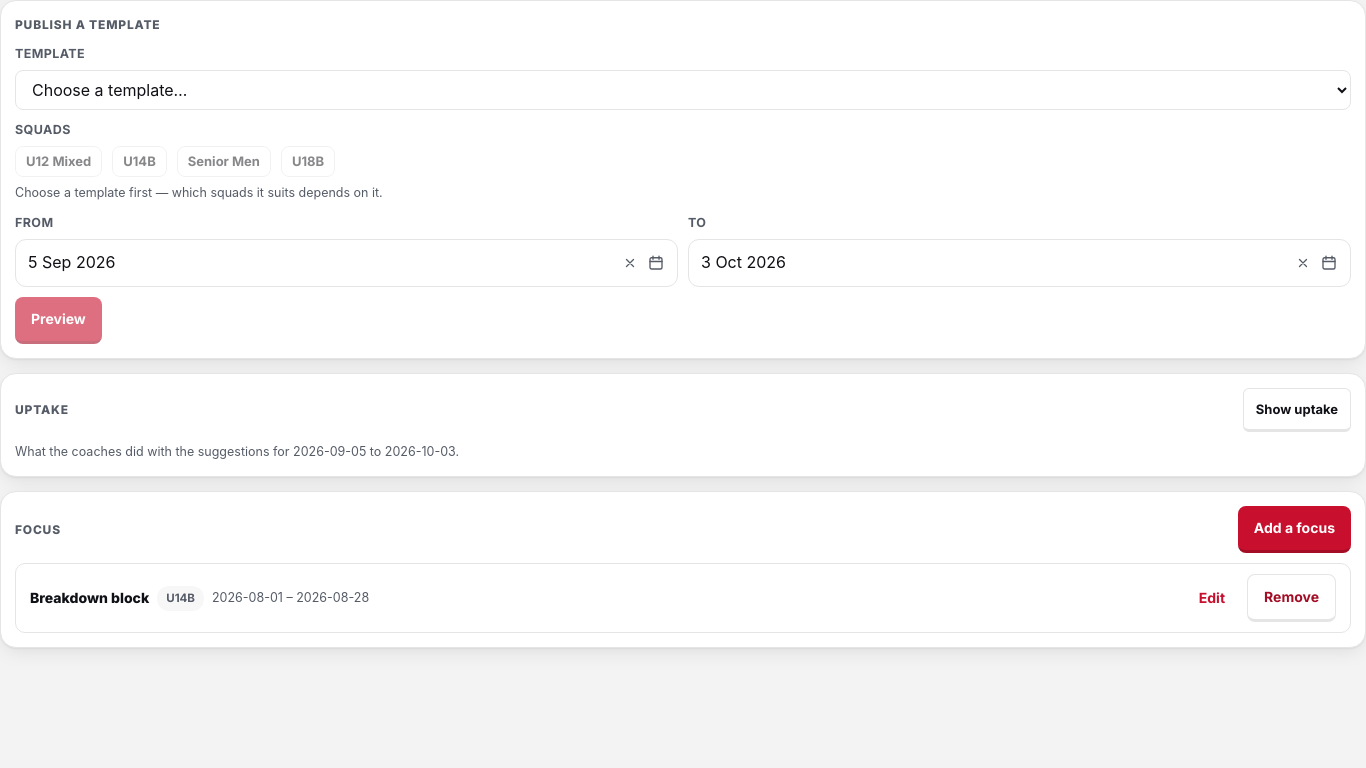
Test: TrainingPublish › counts the ticked out-of-band squads in one sentence, and stays a note not a gate
The image size is (1366, 768).
Step 1. Select "Contact hour · 60 min" in the dropdown labelled "Template" → {"x": 683, "y": 90}, box x1=15 y1=70 x2=1351 y2=110
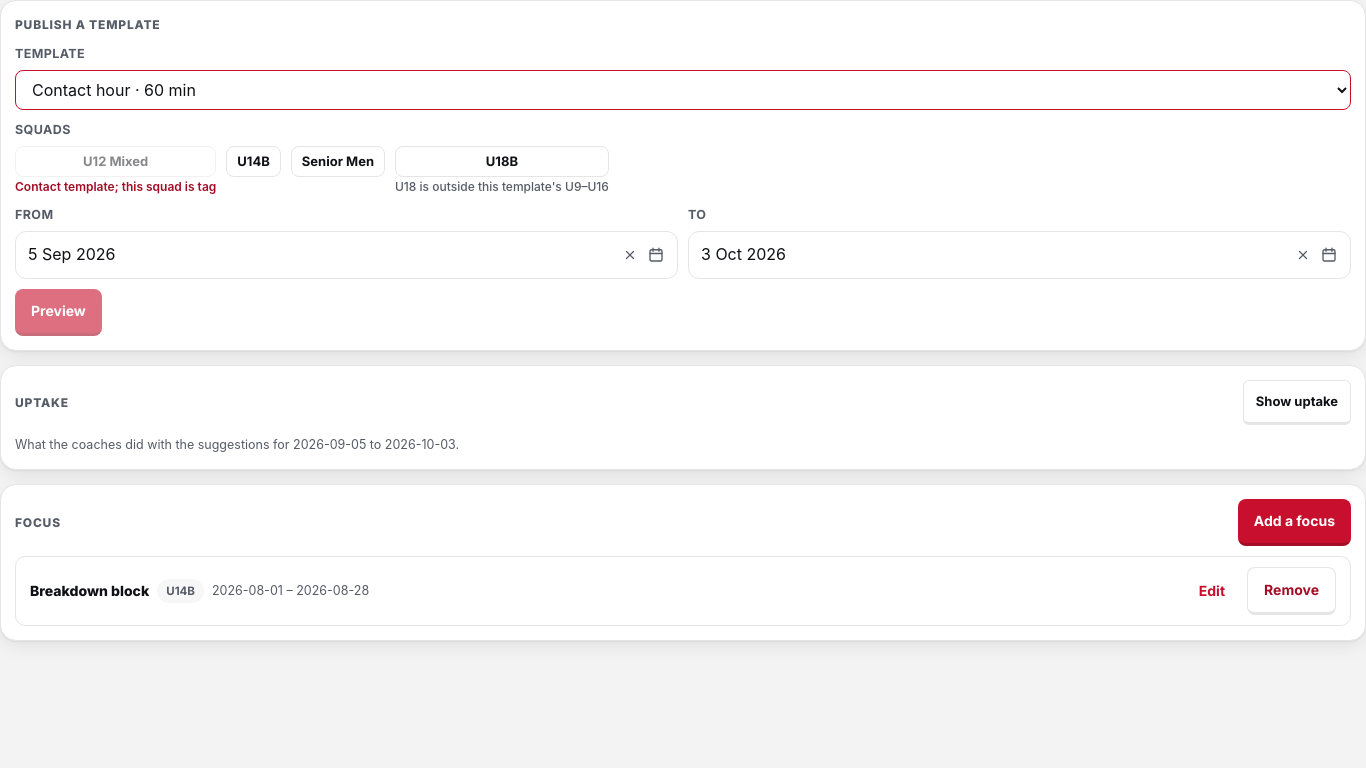
Expected: the text "outside this template's band" is not shown
Step 2. Click the checkbox labelled "U18B" → {"x": 502, "y": 162}, box x1=395 y1=146 x2=609 y2=177
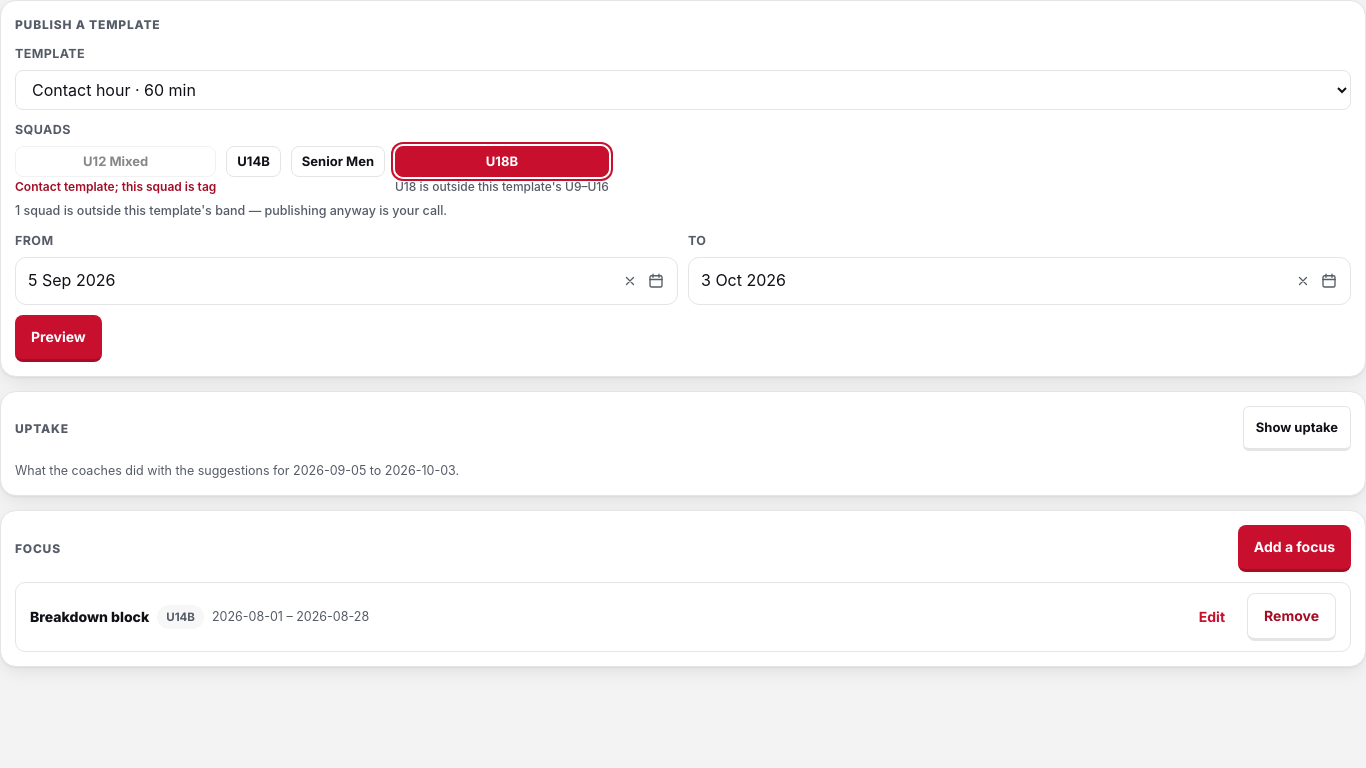
Now the checkbox labelled "U18B" is checked, box x1=395 y1=146 x2=609 y2=177
Now the message reads "1 squad is outside this template's band — publishing anyway is your call.", box x1=15 y1=204 x2=447 y2=218
Step 3. Click the checkbox labelled "U14B" → {"x": 254, "y": 162}, box x1=226 y1=146 x2=281 y2=177
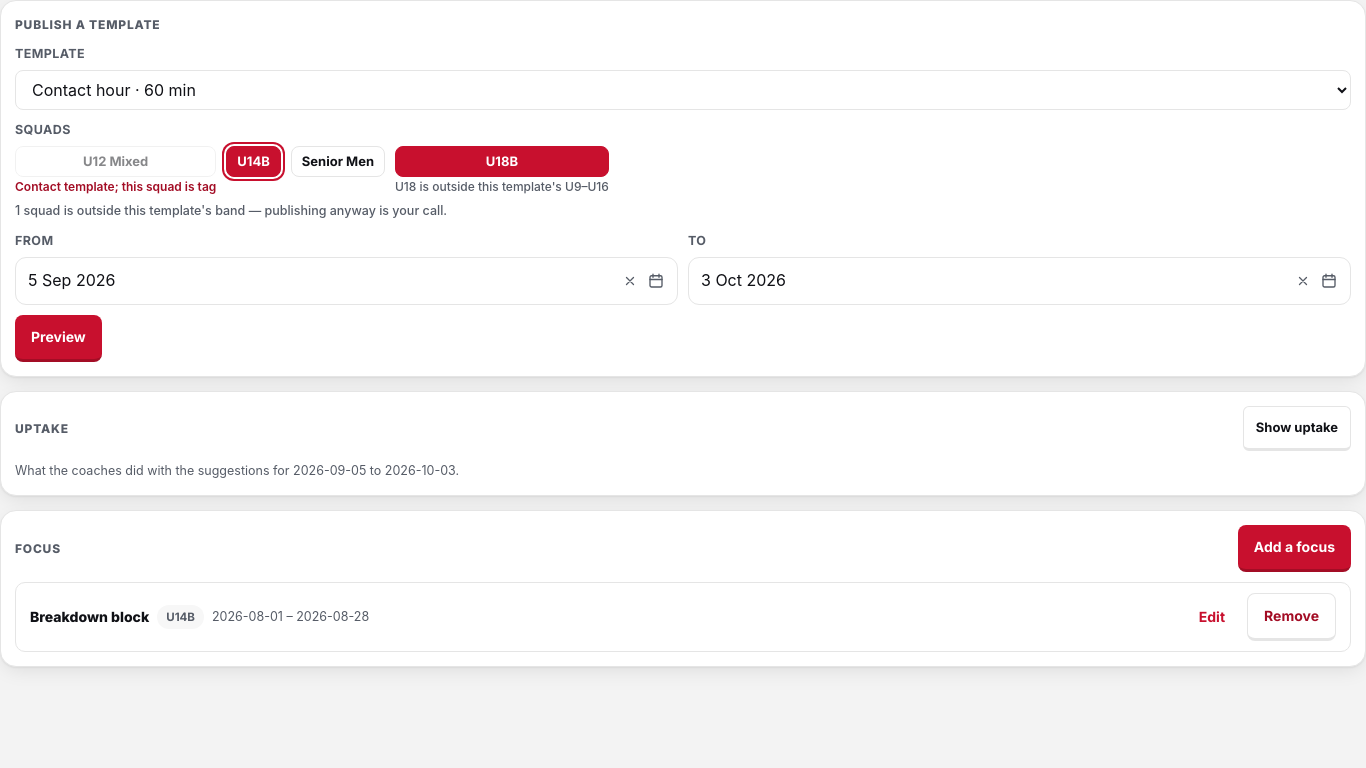
Now the message shows "1 squad is outside", box x1=15 y1=204 x2=447 y2=218
Step 4. Click the checkbox labelled "U18B" → {"x": 502, "y": 162}, box x1=395 y1=146 x2=609 y2=177
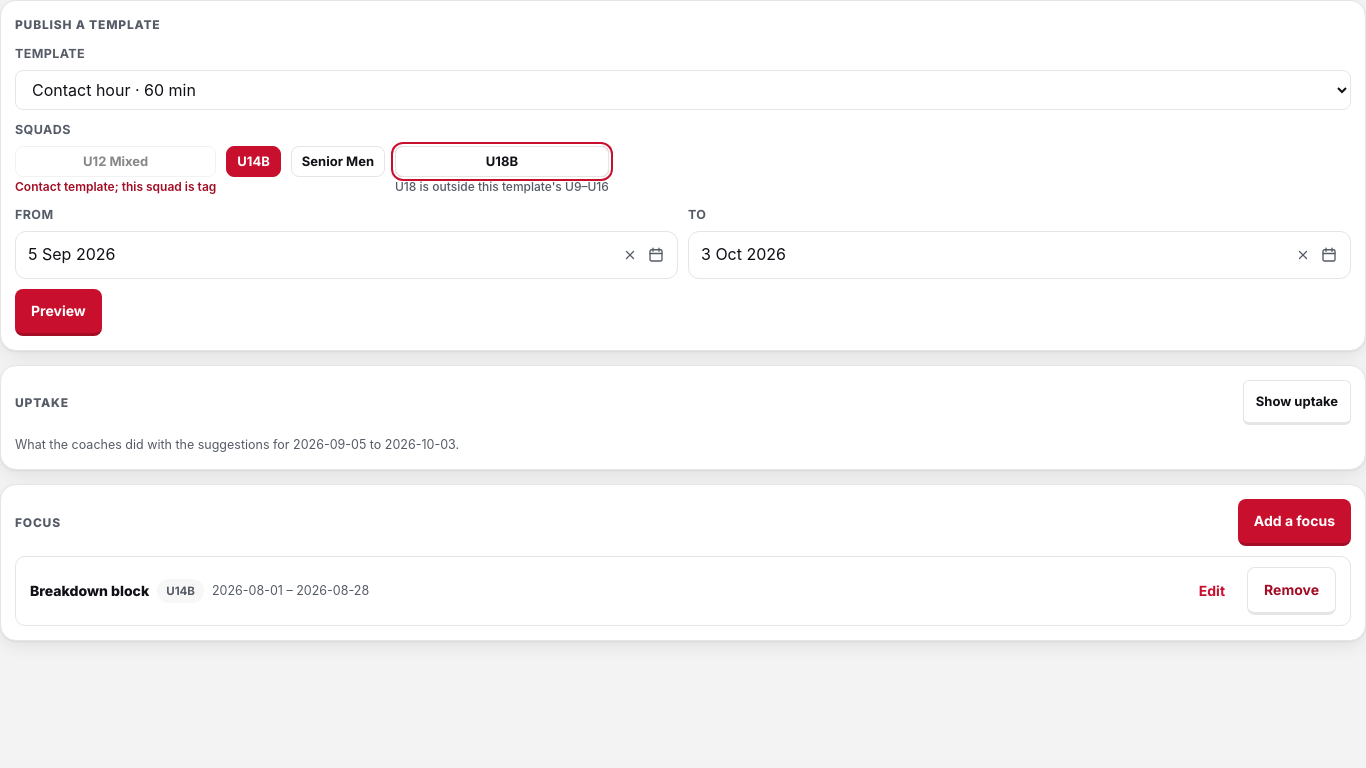
Now the text "outside this template's band" is gone
